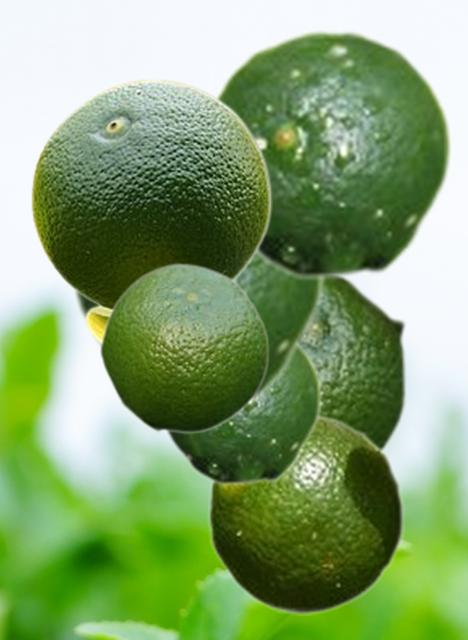calamansi: (30, 78, 271, 346), (212, 28, 453, 281), (206, 413, 405, 614), (71, 258, 326, 408), (98, 261, 269, 433), (162, 343, 322, 486), (303, 278, 408, 452)
